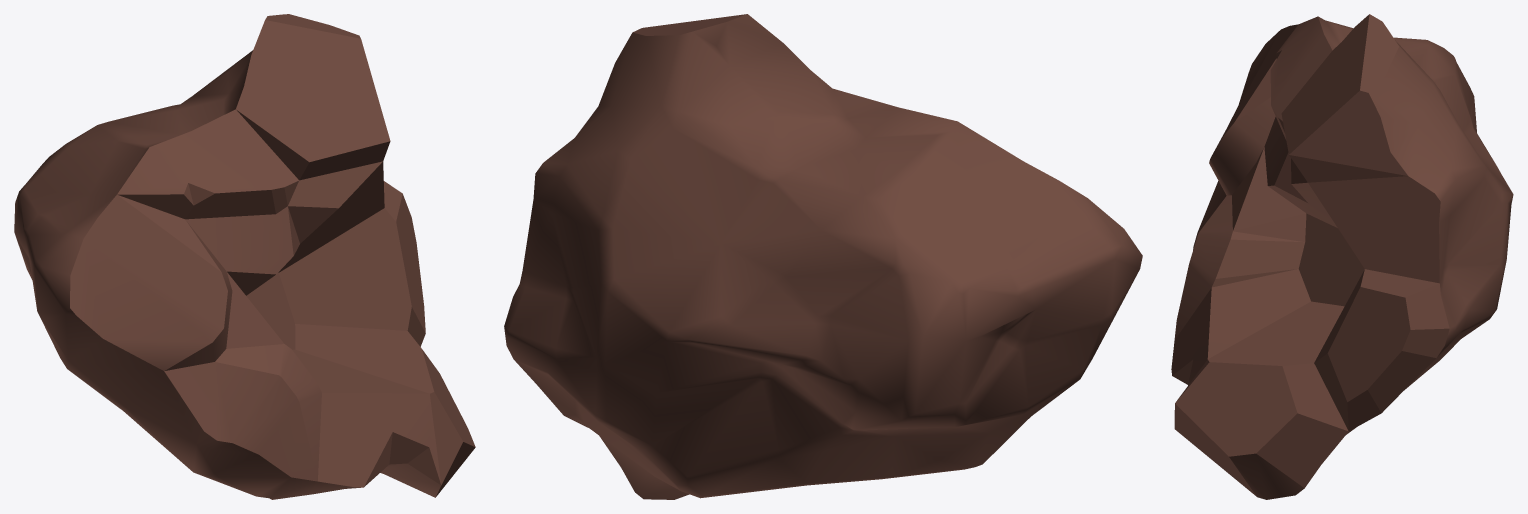
Rendered from p_mesh_hvs_stalagmite_large_destruction_part06.fbx.
3 renders of one model, left to right at view 1: azimuth 30°, elevation 25°; view 2: azimuth 150°, elevation 25°; view 3: azimuth 270°, elevation 25°, orthographic. The views are drawn at different scales.
Parts seen in each view (by area): view 1: p_large_part6; view 2: p_large_part6; view 3: p_large_part6.
Boxes of the visible parts, box(x1,y1,x2,y2) form: p_large_part6: box(14, 14, 475, 499); p_large_part6: box(504, 14, 1142, 499); p_large_part6: box(1171, 14, 1513, 499).
Size of the model in its own units: 8.37 by 8.54 by 6.11.
